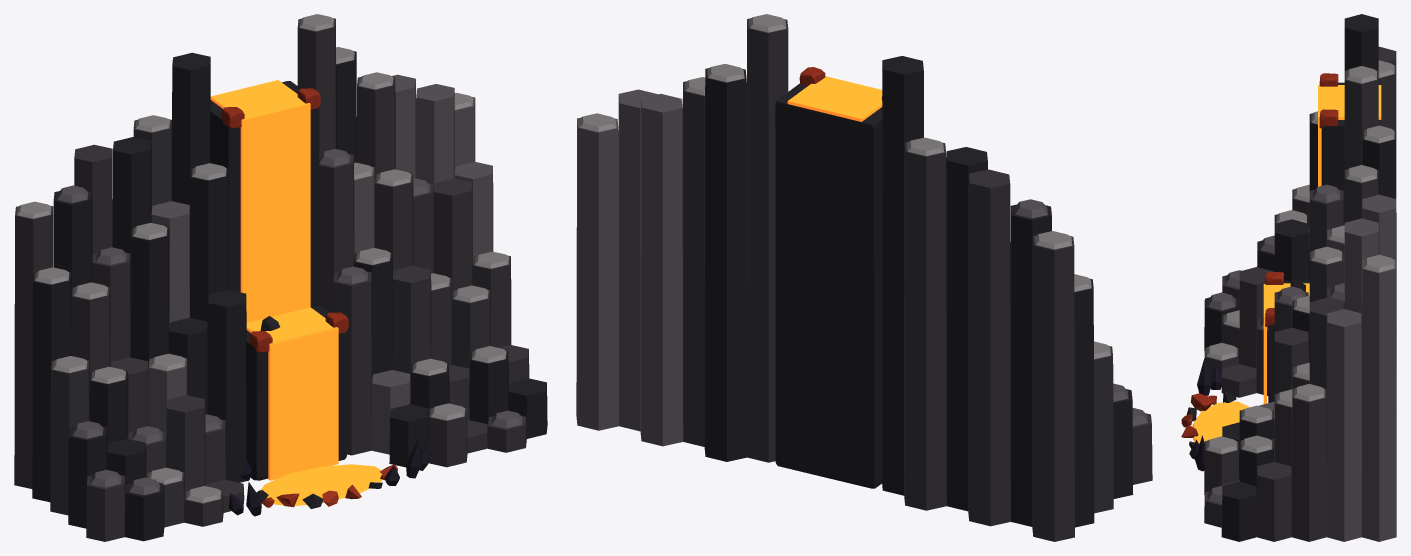
The model's file is Volcano_3_LavaFall.fbx.
The picture shows the model from 3 angles, left to right: view 1: azimuth 30°, elevation 25°; view 2: azimuth 150°, elevation 25°; view 3: azimuth 270°, elevation 25°; orthographic projection. The views are drawn at different scales.
Parts seen in each view (by area): view 1: Volcano_3_LavaFall__Volcano_Basalt, Volcano_3_LavaFall__Volcano_BasaltDark, Volcano_3_LavaFall__Neon_Volcano_Lava, Volcano_3_LavaFall__Volcano_BasaltLight, Volcano_3_LavaFall__Volcano_Ash, Volcano_3_LavaFall__Volcano_LavaCrust, Volcano_3_LavaFall__Volcano_Obsidian; view 2: Volcano_3_LavaFall__Volcano_BasaltDark, Volcano_3_LavaFall__Volcano_Basalt, Volcano_3_LavaFall__Volcano_BasaltLight, Volcano_3_LavaFall__Volcano_Ash, Volcano_3_LavaFall__Neon_Volcano_Lava; view 3: Volcano_3_LavaFall__Volcano_Basalt, Volcano_3_LavaFall__Volcano_BasaltLight, Volcano_3_LavaFall__Volcano_BasaltDark, Volcano_3_LavaFall__Volcano_Ash, Volcano_3_LavaFall__Neon_Volcano_Lava, Volcano_3_LavaFall__Volcano_LavaCrust, Volcano_3_LavaFall__Volcano_Obsidian.
Boxes of the visible parts, bbox=[...] form: Volcano_3_LavaFall__Volcano_Basalt: bbox=[14, 18, 529, 541]; Volcano_3_LavaFall__Volcano_BasaltDark: bbox=[32, 51, 547, 541]; Volcano_3_LavaFall__Neon_Volcano_Lava: bbox=[210, 80, 382, 506]; Volcano_3_LavaFall__Volcano_BasaltLight: bbox=[57, 74, 522, 495]; Volcano_3_LavaFall__Volcano_Ash: bbox=[17, 14, 509, 502]; Volcano_3_LavaFall__Volcano_LavaCrust: bbox=[221, 88, 397, 507]; Volcano_3_LavaFall__Volcano_Obsidian: bbox=[229, 437, 428, 516]; Volcano_3_LavaFall__Volcano_BasaltDark: bbox=[704, 56, 1133, 527]; Volcano_3_LavaFall__Volcano_Basalt: bbox=[682, 18, 1152, 541]; Volcano_3_LavaFall__Volcano_BasaltLight: bbox=[576, 89, 1147, 446]; Volcano_3_LavaFall__Volcano_Ash: bbox=[579, 14, 1110, 359]; Volcano_3_LavaFall__Neon_Volcano_Lava: bbox=[787, 76, 882, 121]; Volcano_3_LavaFall__Volcano_Basalt: bbox=[1204, 46, 1396, 541]; Volcano_3_LavaFall__Volcano_BasaltLight: bbox=[1208, 184, 1396, 541]; Volcano_3_LavaFall__Volcano_BasaltDark: bbox=[1186, 14, 1396, 541]; Volcano_3_LavaFall__Volcano_Ash: bbox=[1206, 60, 1394, 453]; Volcano_3_LavaFall__Neon_Volcano_Lava: bbox=[1192, 85, 1381, 443]; Volcano_3_LavaFall__Volcano_LavaCrust: bbox=[1181, 73, 1338, 437]; Volcano_3_LavaFall__Volcano_Obsidian: bbox=[1189, 358, 1221, 471].
Bounding box in the file's own units: 120 × 100 × 49.89.
